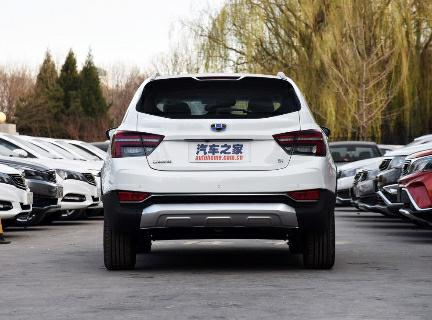吉利汽车-远景S1: (95, 65, 343, 278)
